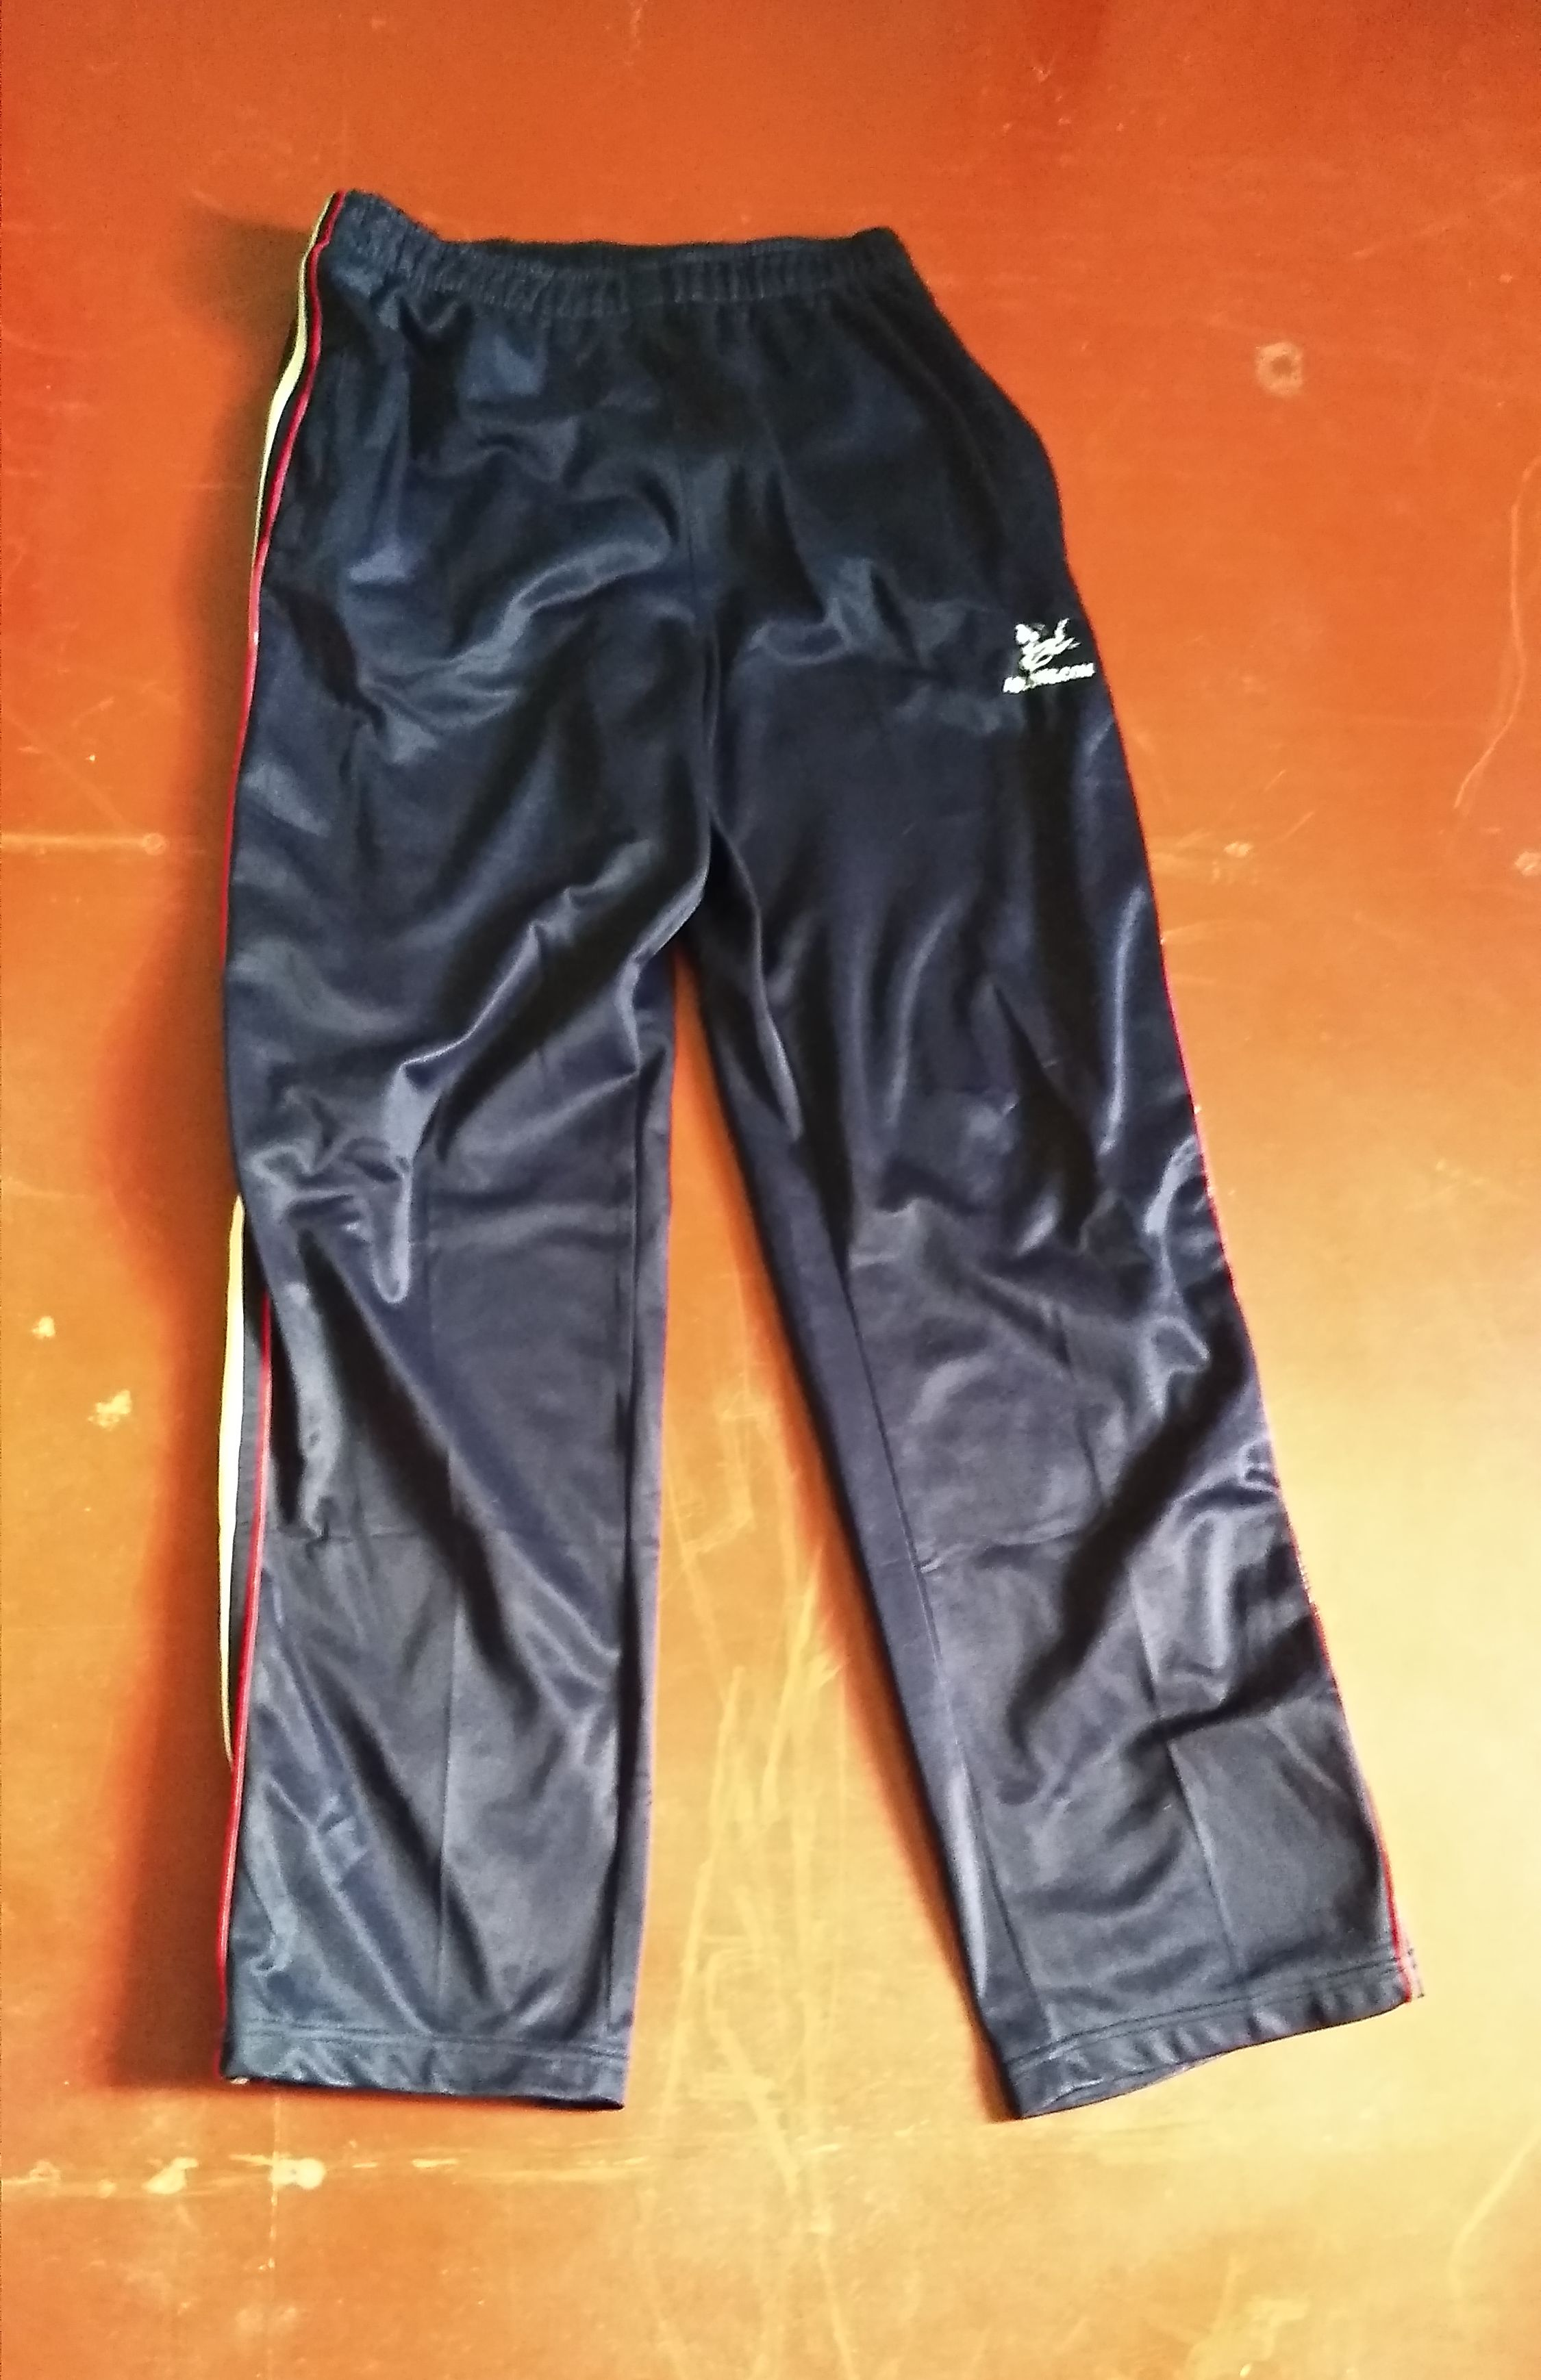clothes: (148, 175, 1404, 2125)
